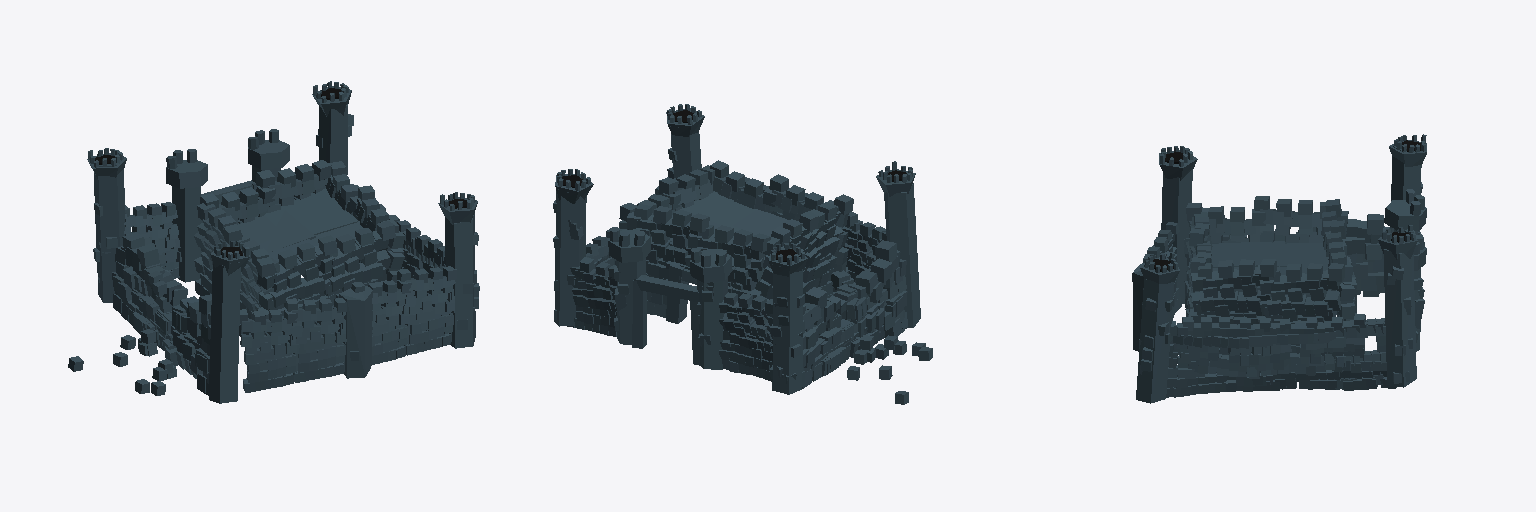
The picture shows the model from 3 angles: view 1: azimuth 30°, elevation 25°; view 2: azimuth 150°, elevation 25°; view 3: azimuth 270°, elevation 25°; orthographic projection.
Visible parts, largest first — view 1: group[number redacted], group[number redacted], group[number redacted], group[number redacted], group[number redacted], group[number redacted], group[number redacted], group[number redacted], group[number redacted], group[number redacted]; view 2: group[number redacted], group[number redacted], group[number redacted], group[number redacted], group[number redacted], group[number redacted], group[number redacted], group[number redacted], group[number redacted], group[number redacted], group[number redacted], group[number redacted] (+1 smaller); view 3: group[number redacted], group[number redacted], group[number redacted], group[number redacted], group[number redacted], group[number redacted], group[number redacted], group[number redacted].
Boxes of the visible parts, <box> form: group[number redacted]: <box>209,264,240,403</box>; group[number redacted]: <box>445,213,475,348</box>; group[number redacted]: <box>94,160,125,302</box>; group[number redacted]: <box>339,286,372,378</box>; group[number redacted]: <box>265,188,357,234</box>; group[number redacted]: <box>172,186,201,282</box>; group[number redacted]: <box>238,210,315,252</box>; group[number redacted]: <box>319,104,347,174</box>; group[number redacted]: <box>248,140,289,169</box>; group[number redacted]: <box>166,160,207,188</box>; group[number redacted]: <box>772,248,802,394</box>; group[number redacted]: <box>554,191,586,326</box>; group[number redacted]: <box>884,183,920,328</box>; group[number redacted]: <box>697,277,727,369</box>; group[number redacted]: <box>680,191,756,225</box>; group[number redacted]: <box>616,258,645,344</box>; group[number redacted]: <box>671,132,701,177</box>; group[number redacted]: <box>634,276,698,301</box>; group[number redacted]: <box>632,275,646,348</box>; group[number redacted]: <box>608,229,650,262</box>; group[number redacted]: <box>690,249,732,282</box>; group[number redacted]: <box>733,209,787,235</box>; group[number redacted]: <box>1383,249,1416,387</box>; group[number redacted]: <box>1136,279,1173,403</box>; group[number redacted]: <box>1161,169,1192,303</box>; group[number redacted]: <box>1211,241,1284,267</box>; group[number redacted]: <box>1263,243,1328,266</box>; group[number redacted]: <box>1391,141,1421,200</box>; group[number redacted]: <box>1384,200,1426,230</box>; group[number redacted]: <box>1132,264,1143,351</box>.
Bounding box in the file's own units: 0.703 × 0.3822 × 0.5542.